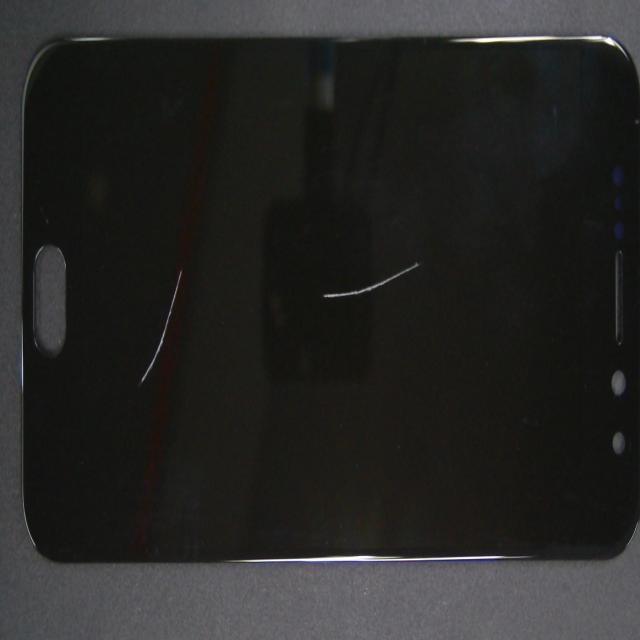Scratches: (114, 258, 199, 403), (312, 251, 437, 328)
